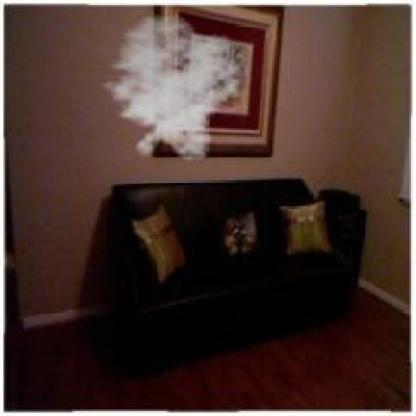Smoke: (93, 13, 247, 162)
